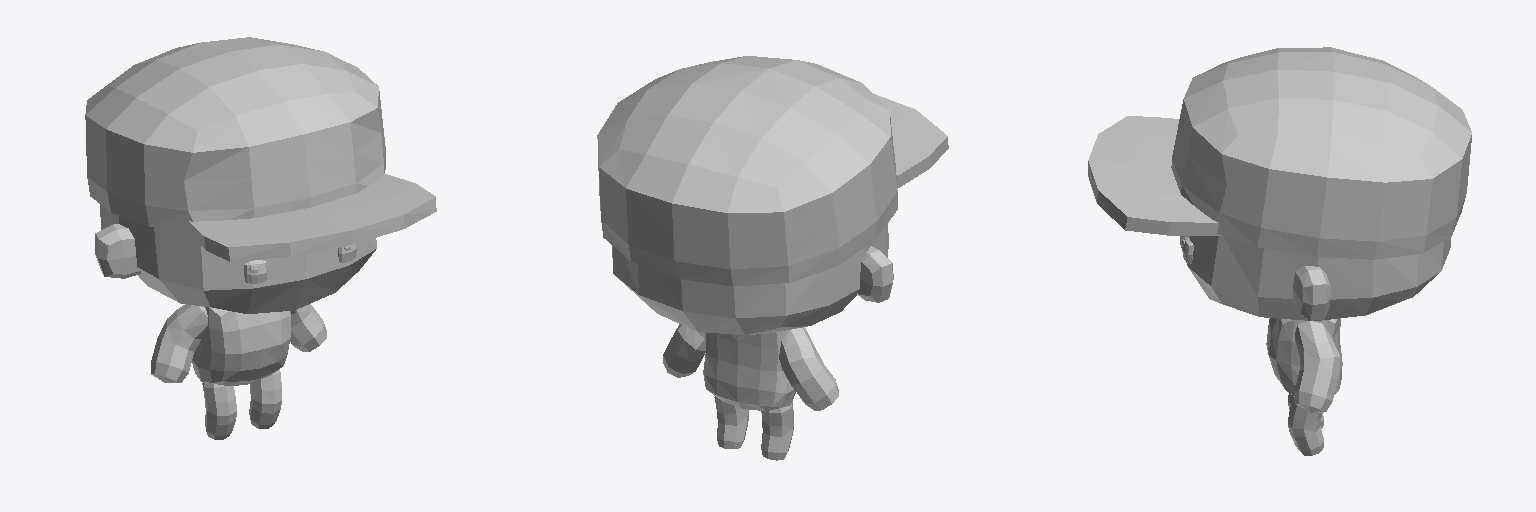
File: idle_0035.obj
3 renders of one model, left to right at view 1: azimuth 30°, elevation 25°; view 2: azimuth 150°, elevation 25°; view 3: azimuth 270°, elevation 25°, orthographic.
Visible parts, largest first — view 1: Object_41, Object_42, Object_36, Object_44, Object_38; view 2: Object_41, Object_44, Object_36, Object_42; view 3: Object_41, Object_36, Object_42, Object_44.
Part boxes in pixels (left/top/right/bottom): Object_41: left=85, top=37, right=385, bottom=232; Object_42: left=184, top=108, right=436, bottom=261; Object_36: left=95, top=204, right=376, bottom=313; Object_44: left=151, top=304, right=326, bottom=439; Object_38: left=244, top=244, right=356, bottom=283; Object_41: left=597, top=56, right=897, bottom=286; Object_44: left=663, top=324, right=838, bottom=460; Object_36: left=612, top=224, right=893, bottom=334; Object_42: left=874, top=94, right=948, bottom=188; Object_41: left=1184, top=47, right=1471, bottom=259; Object_36: left=1180, top=236, right=1451, bottom=320; Object_42: left=1088, top=99, right=1226, bottom=235; Object_44: left=1266, top=318, right=1342, bottom=455.
Size of the model in its own units: 0.9691 by 1.22 by 1.14.